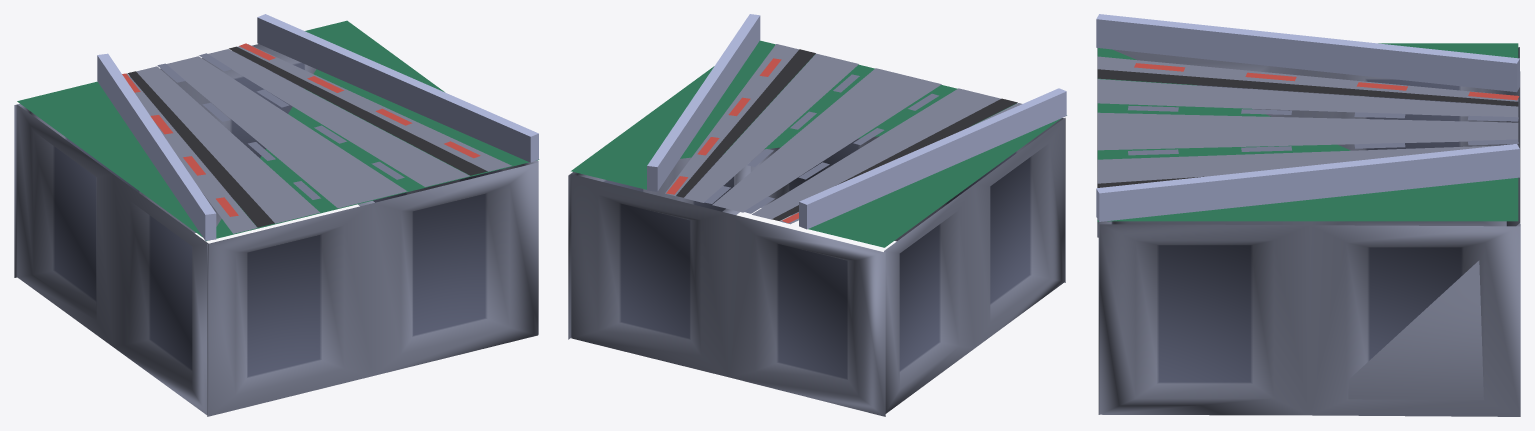
Rendered from elev-wide-to-thin.glb.
3 views of the same model, side by side, from view 1: azimuth 30°, elevation 25°; view 2: azimuth 150°, elevation 25°; view 3: azimuth 270°, elevation 25° (orthographic). The views are drawn at different scales.
Parts seen in each view (by area): view 1: track-straight.010; view 2: track-straight.010; view 3: track-straight.010.
Part boxes in pixels (x1,y1,x2,y2): track-straight.010: [14, 14, 539, 416]; track-straight.010: [568, 14, 1066, 416]; track-straight.010: [1096, 14, 1520, 416].
Size of the model in its own units: 10.1 by 5.87 by 10.09.
3 materials, 3 textured.
